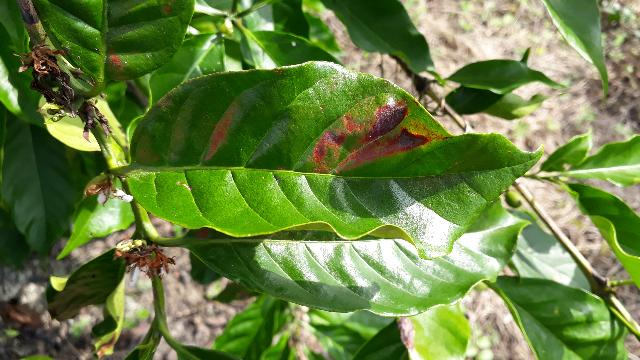red_spider_mite: (116, 57, 547, 262)
